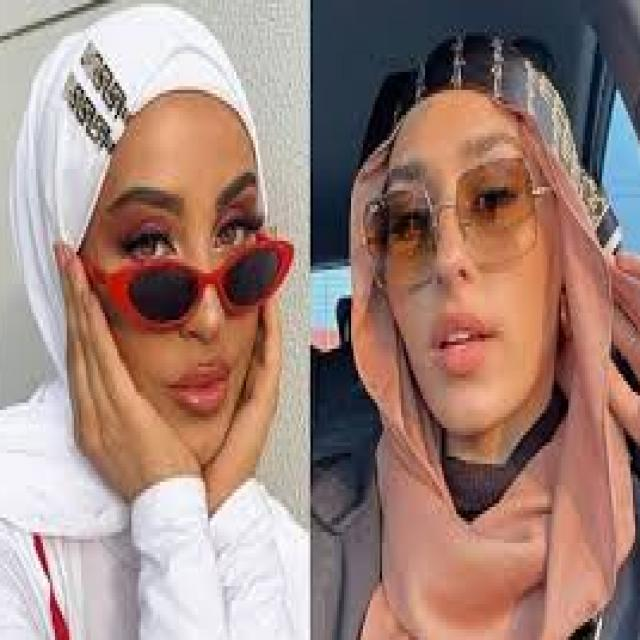Glasses: (358, 151, 552, 302), (72, 230, 298, 338)
